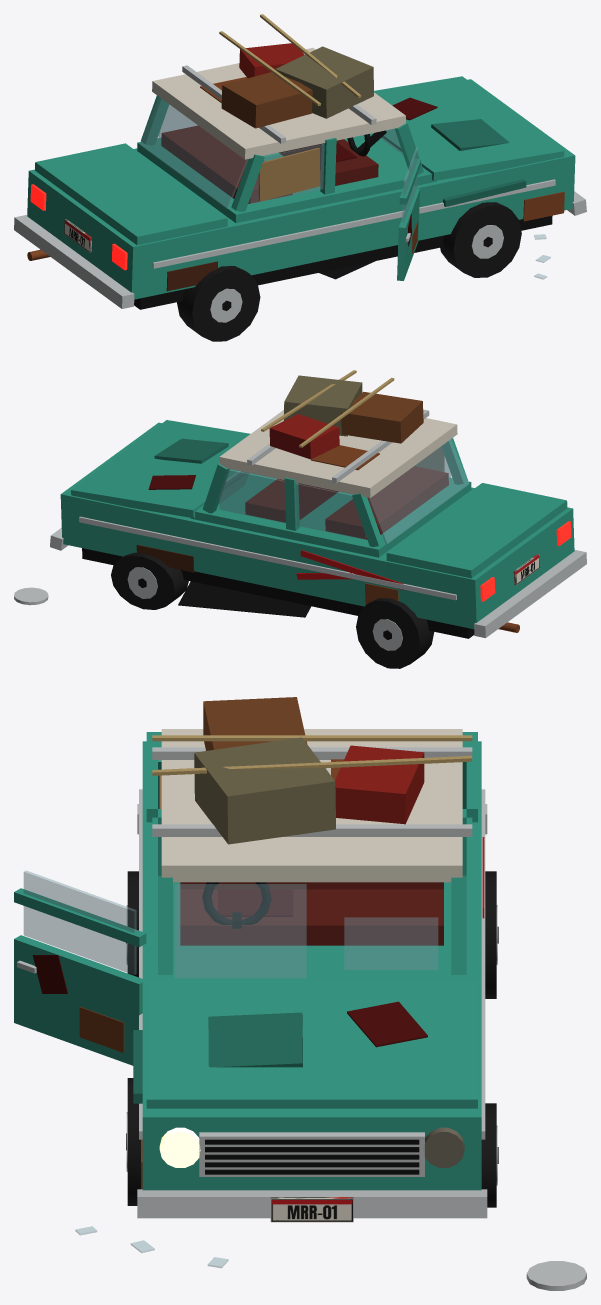
The model's file is carro-abandonado.glb.
3 renders of one model, top to bottom at view 1: azimuth 30°, elevation 25°; view 2: azimuth 150°, elevation 25°; view 3: azimuth 270°, elevation 25°, orthographic. The views are drawn at different scales.
Visible parts, largest first — view 1: cuerpo, maletero, capo, techo, cabina_base, luneta, bulto_lona, llanta_2, llanta_0, maleta_1, asiento_tras, chasis (+25 smaller); view 2: cuerpo, maletero, capo, techo, cabina_base, luneta, asiento_tras, llanta_3, maleta_1, chasis, ventana_der_del, ventana_der_tras (+28 smaller); view 3: capo, techo, cuerpo, cabina_base, parabrisas_trozo_a, asiento_del, bulto_lona, puerta_panel, parachoques_del, puerta_vidrio, parrilla, maleta_2 (+32 smaller).
Part boxes in pixels (x1,y1,x2,y2): cuerpo: [27, 79, 575, 299]; maletero: [35, 143, 227, 245]; capo: [374, 76, 564, 180]; techo: [152, 48, 405, 159]; cabina_base: [137, 133, 436, 222]; luneta: [140, 97, 248, 208]; bulto_lona: [275, 46, 373, 118]; llanta_2: [177, 266, 260, 341]; llanta_0: [440, 202, 521, 277]; maleta_1: [221, 72, 312, 128]; asiento_tras: [161, 125, 292, 203]; chasis: [134, 215, 552, 309]; cuerpo: [60, 422, 574, 629]; maletero: [386, 483, 567, 578]; capo: [71, 420, 250, 518]; techo: [219, 410, 457, 497]; cabina_base: [190, 473, 471, 557]; luneta: [367, 439, 468, 544]; asiento_tras: [325, 466, 448, 539]; llanta_3: [356, 598, 434, 668]; maleta_1: [341, 391, 423, 443]; chasis: [82, 548, 474, 638]; ventana_der_del: [219, 469, 285, 523]; ventana_der_tras: [295, 483, 366, 539]; capo: [146, 980, 477, 1108]; techo: [161, 729, 462, 882]; cuerpo: [142, 741, 481, 1190]; cabina_base: [152, 817, 472, 979]; parabrisas_trozo_a: [174, 884, 306, 978]; asiento_del: [180, 889, 443, 945]; bulto_lona: [194, 737, 335, 844]; puerta_panel: [14, 935, 145, 1065]; parachoques_del: [137, 1189, 487, 1218]; puerta_vidrio: [23, 870, 136, 974]; parrilla: [199, 1132, 424, 1176]; maleta_2: [335, 745, 424, 824].
Bounding box in the file's own units: 4.86 × 2.05 × 3.04.
Materials: 23 (1 with a texture image).
